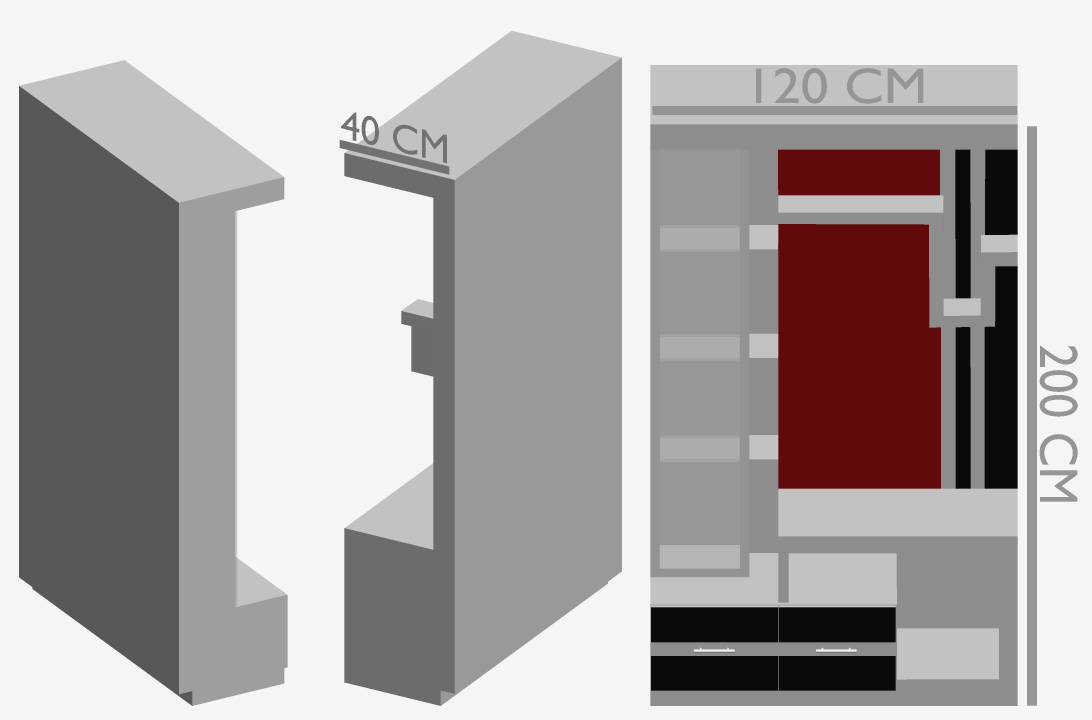
File: Lemari_Yudi_Kecil.glb
3 views of the same model, side by side, from view 1: azimuth 30°, elevation 25°; view 2: azimuth 150°, elevation 25°; view 3: azimuth 270°, elevation 25° (orthographic). The views are drawn at different scales.
Visible parts, largest first — view 1: Cube; view 2: Cube, Text.002, Plane.002; view 3: Cube, Plane, Plane.001, Text, Text.001.
Boxes of the visible parts, x1,y1,x2,y2 form: Cube: [19, 60, 287, 705]; Cube: [344, 30, 621, 705]; Text.002: [341, 112, 446, 163]; Plane.002: [339, 140, 449, 174]; Cube: [650, 65, 1017, 705]; Plane: [1027, 126, 1036, 705]; Plane.001: [652, 106, 1017, 114]; Text: [1039, 345, 1077, 501]; Text.001: [756, 68, 923, 103].
Bounding box in the file's own units: 0.9147 × 4.23 × 2.57.
